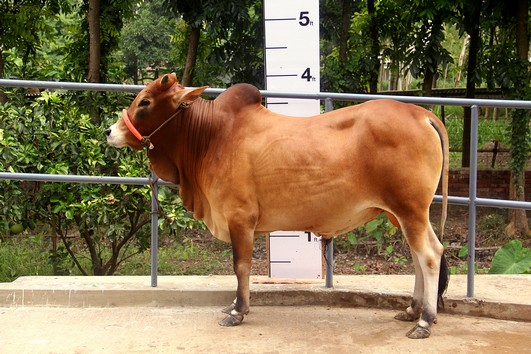cow: (97, 62, 456, 349)
